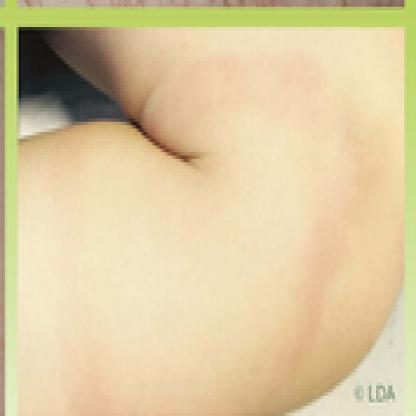Tick: (47, 37, 364, 413)
